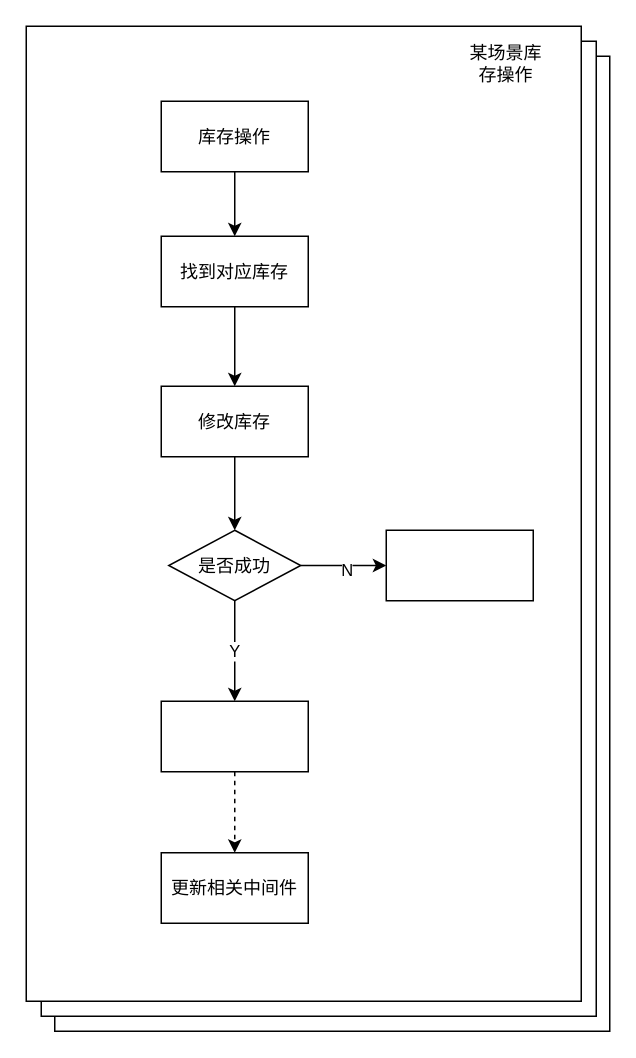
The diagram is 636 pixels wide and 1058 high, and some of its shapes have lost their labels. Each missing label, with the box of its shape:
回滚: (385, 529, 533, 601)
通知下游: (160, 700, 308, 772)
